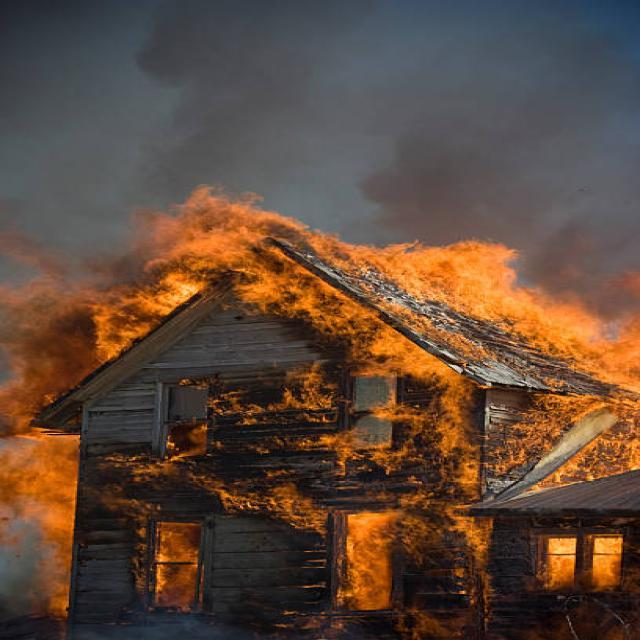Fire: (204, 381, 476, 504), (81, 185, 264, 353), (266, 248, 400, 366), (0, 434, 83, 622), (487, 386, 640, 477), (410, 504, 500, 634), (522, 288, 638, 386), (398, 240, 518, 316), (331, 510, 406, 620), (402, 316, 519, 380), (140, 514, 212, 612), (100, 449, 207, 512), (534, 534, 624, 596), (216, 504, 330, 522)
Smoke: (276, 7, 635, 231), (11, 7, 258, 180)
